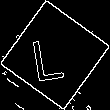L_N: (36, 27, 74, 83)
